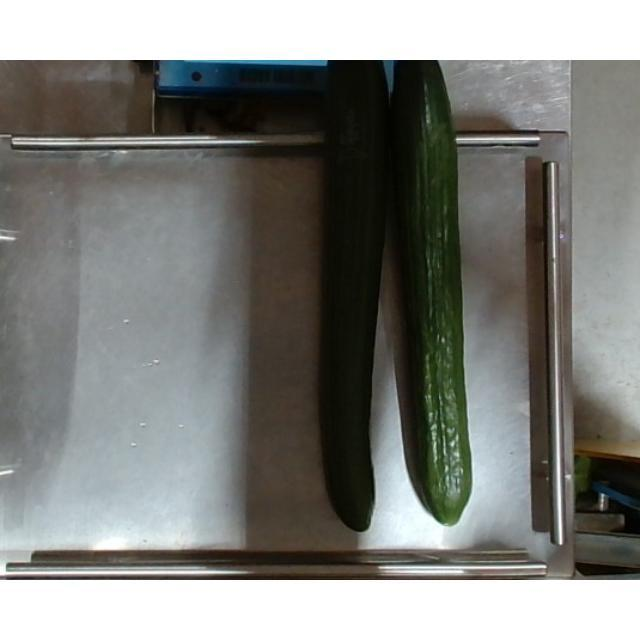cucumber: (393, 61, 475, 526), (322, 61, 390, 534)
